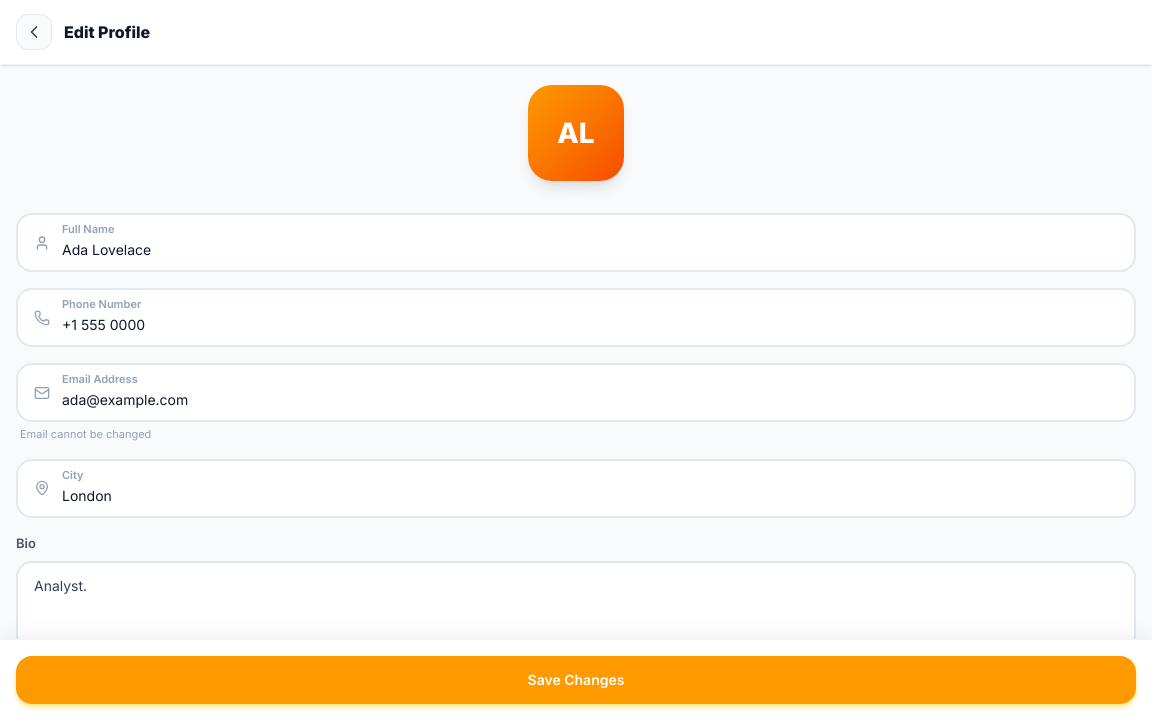
Test: EditProfilePage — form state belongs to the person until a save is acknowledged › D — a save acknowledged while the cached GET is still old does not put the old value back
The image size is (1152, 720).
Step 1. Replace the text in the field labelled "Full Name" with "Grace Hopper" → (576, 242), box [18,215,1134,270]
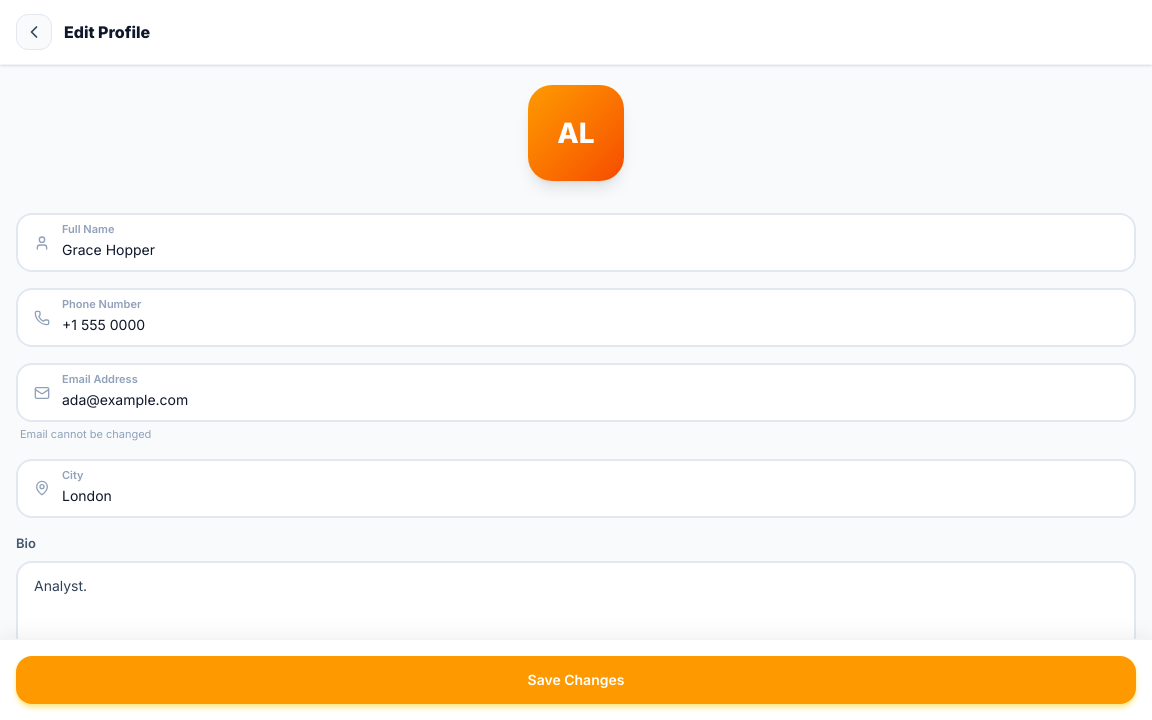
Step 2. Click the button "Save Changes" → click(576, 680), box [16,656,1136,704]
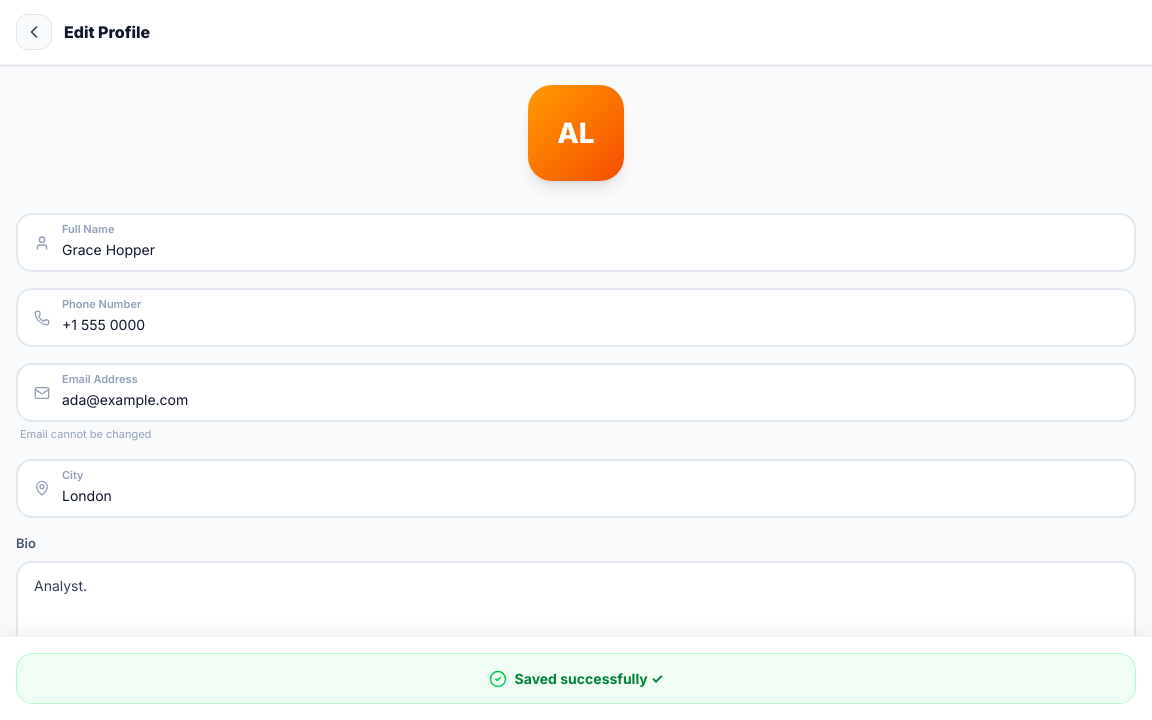
expect the text "Saved successfully ✓" is shown: met, box [515,668,663,689]
